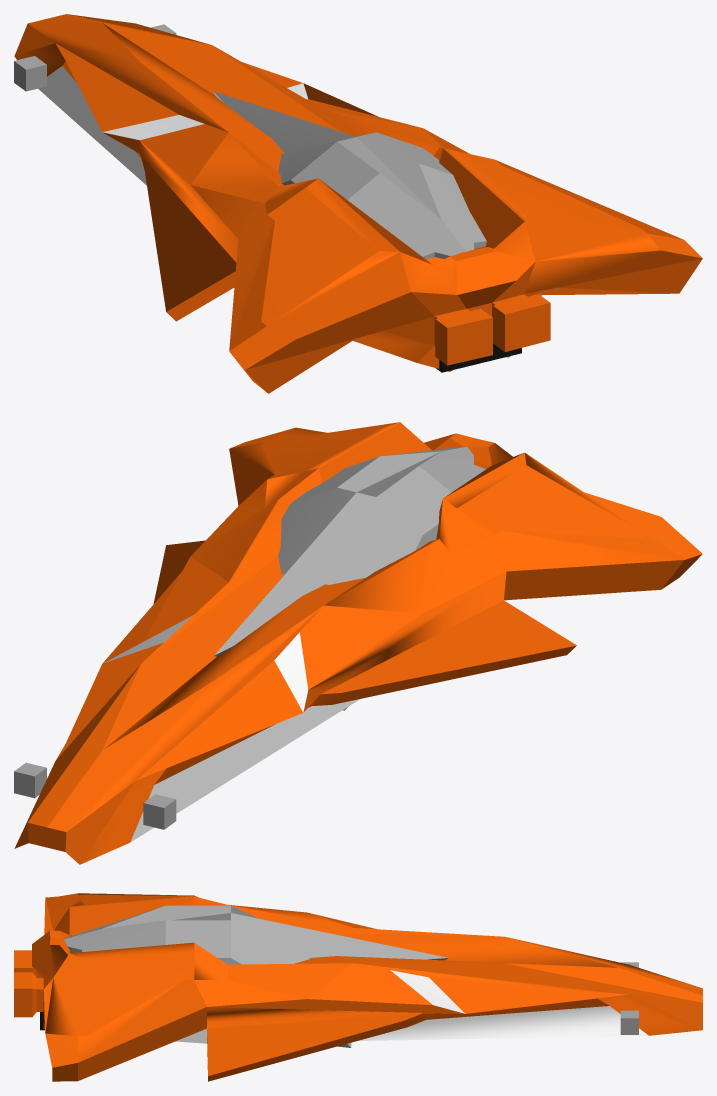
File: Capital.obj
3 views of the same model, one above another, from view 1: azimuth 30°, elevation 25°; view 2: azimuth 150°, elevation 25°; view 3: azimuth 270°, elevation 25° (orthographic). The views are drawn at different scales.
Parts seen in each view (by area): view 1: car, pilot, headlights, Plate; view 2: car, pilot, headlights; view 3: car, pilot, headlights.
Boxes of the visible parts, x1,y1,x2,y2 form: car: [14, 14, 702, 393]; pilot: [214, 91, 486, 259]; headlights: [14, 24, 176, 91]; Plate: [436, 343, 521, 372]; car: [14, 422, 702, 864]; pilot: [214, 446, 485, 710]; headlights: [14, 762, 176, 829]; car: [14, 893, 702, 1081]; pilot: [64, 905, 447, 1047]; headlights: [620, 962, 638, 1034].
Size of the model in its own units: 8.13 by 2.46 by 13.88.
